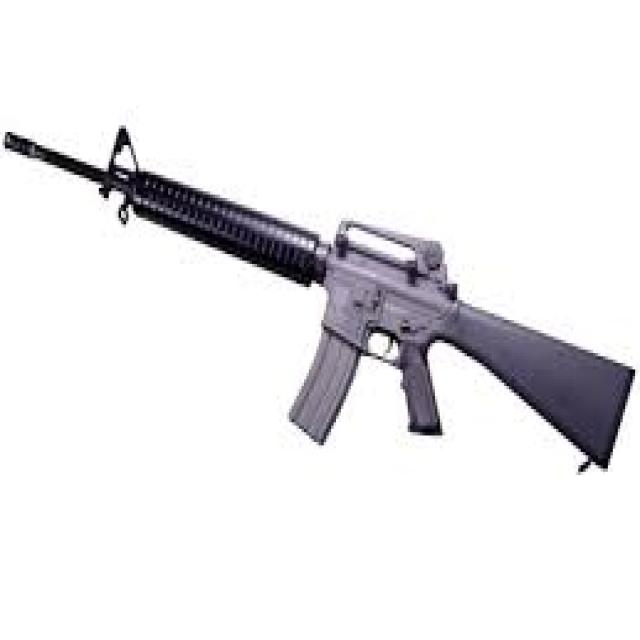rifle: (4, 113, 638, 483)
